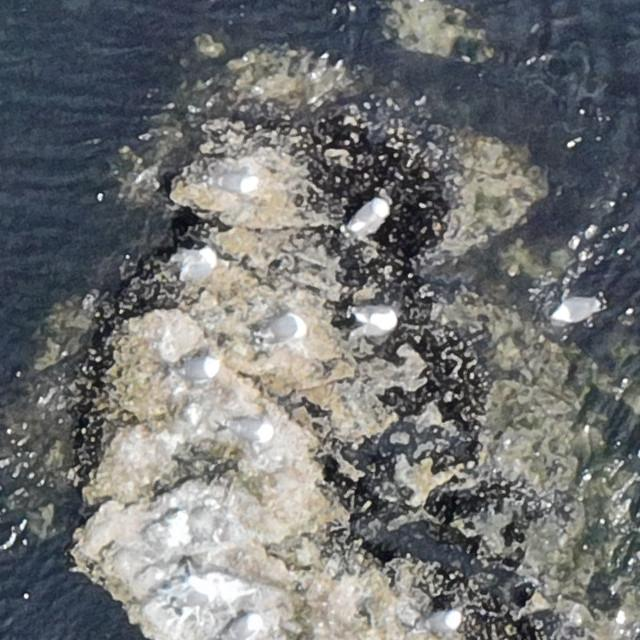umineko: (348, 197, 390, 236), (552, 294, 602, 324), (351, 304, 399, 335), (257, 314, 306, 344), (210, 168, 258, 196), (229, 416, 273, 444), (222, 612, 262, 638), (178, 357, 220, 380), (424, 609, 461, 635)
